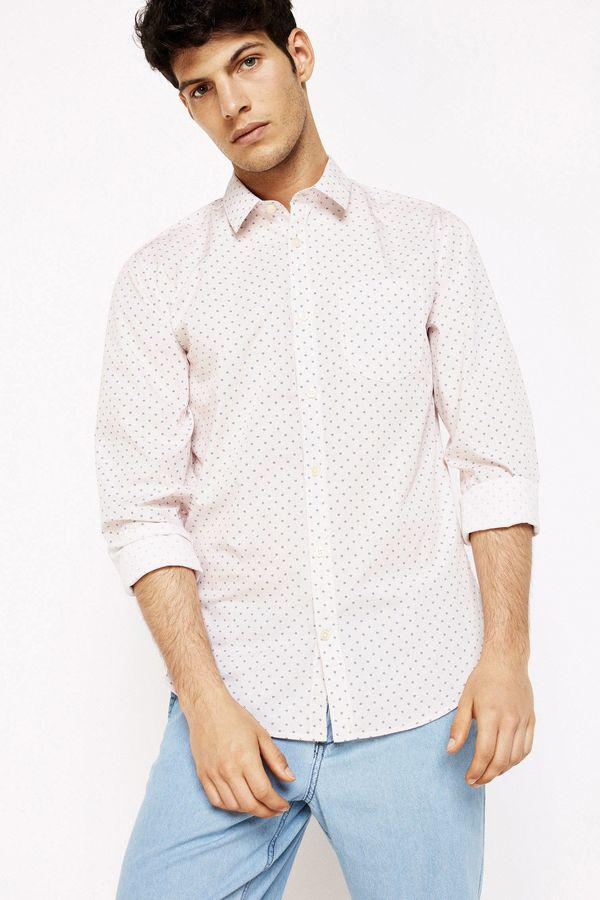teeshirt: (79, 159, 590, 754)
